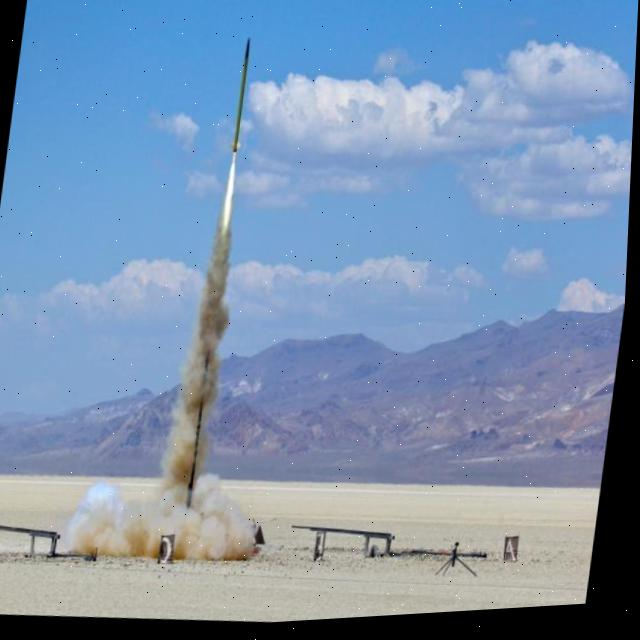missile: (230, 37, 255, 159)
